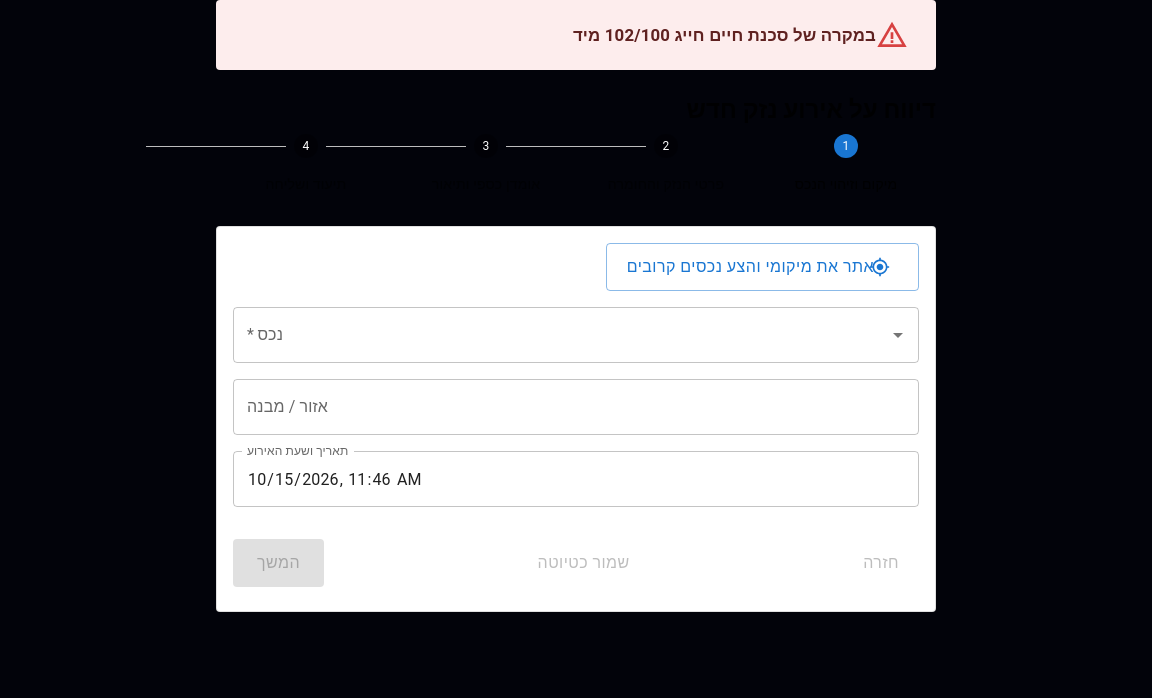
Test: IncidentReport — reverse-geocoding autofill › does not block the form when reverse geocoding fails — leaves the field empty for manual entry
The image size is (1152, 698).
Click the button "אתר את מיקומי והצע נכסים קרובים". click: (762,267)
box: [606,243,919,291]
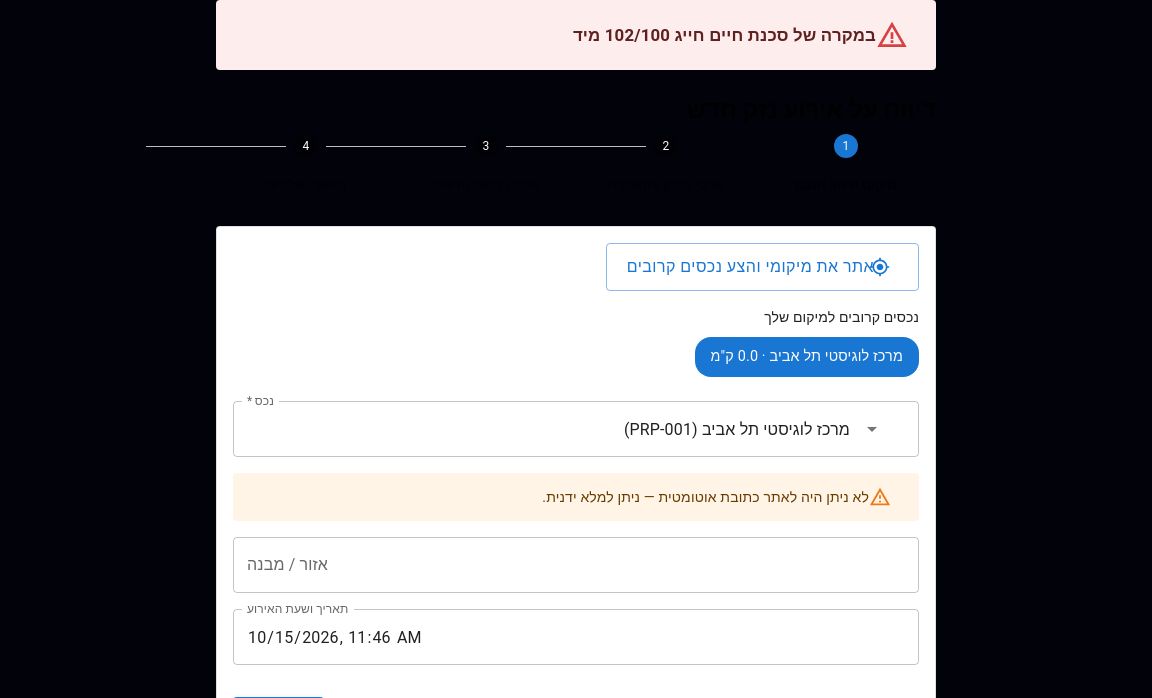
Check: the field labelled "אזור / מבנה" is empty, box [233,537,919,593]
Check: the text "לא ניתן היה לאתר כתובת אוטומטית — ניתן למלא ידנית." is shown, box [542,489,869,505]
Check: the dropdown showing "מרכז לוגיסטי תל אביב" is shown, box [242,410,854,448]
